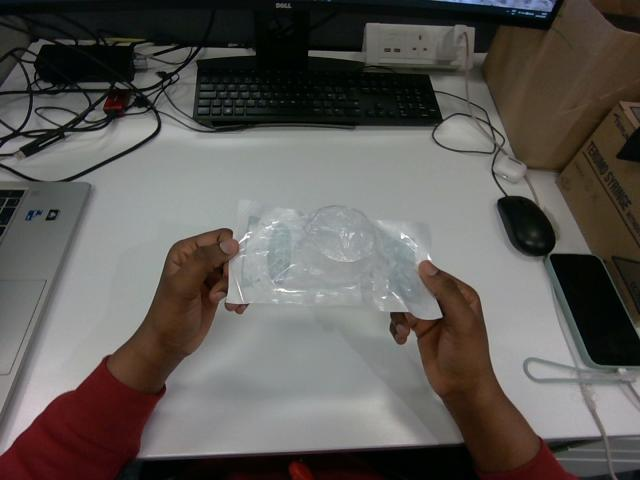gallipot: (227, 200, 440, 318)
